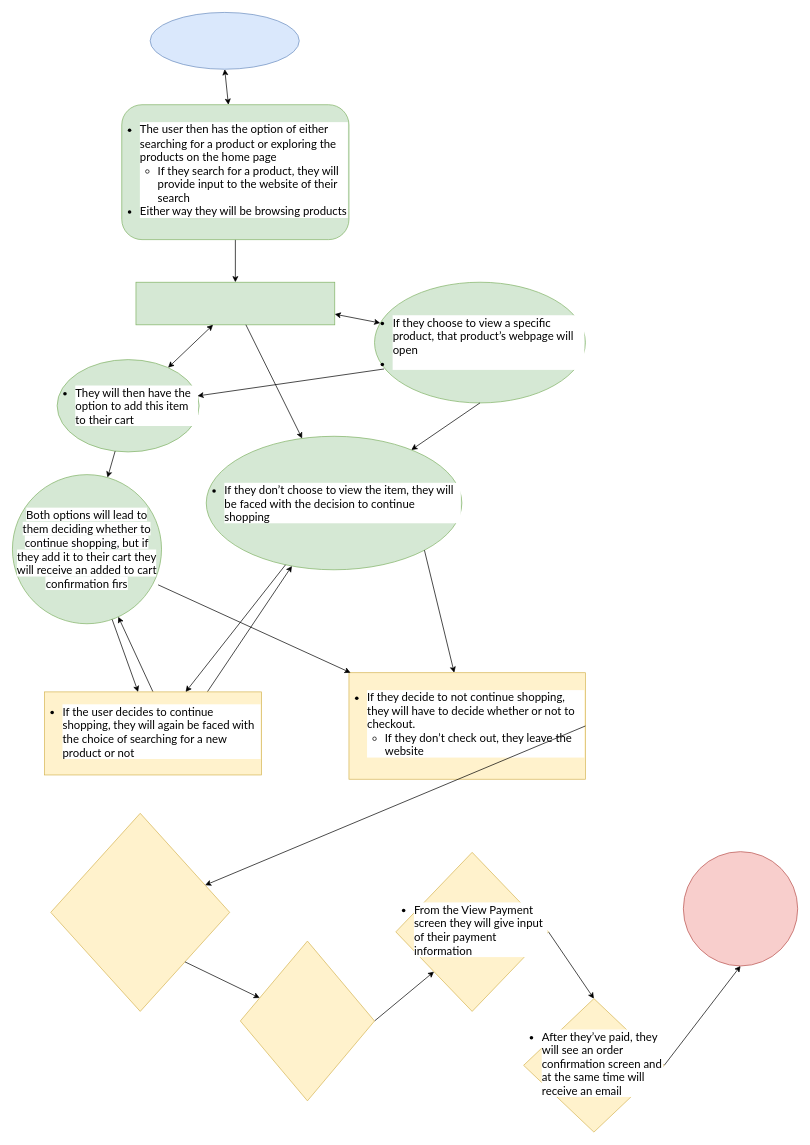
This 810x1145 diagram has some shape labels left out. Each missing label, with the centre of its shape:
"After the order confirmation screen the user will leave the website" belongs at (x=740, y=908).
"From the View Cart screen they will go to the View Payment screen" belongs at (x=307, y=1020).
"If they do decide to check out, they will reach the View Cart screen" belongs at (x=140, y=912).
"The user begins by entering the website" belongs at (x=224, y=40).
"The user is then faced with the option of viewing a specific produc" belongs at (x=235, y=303).
